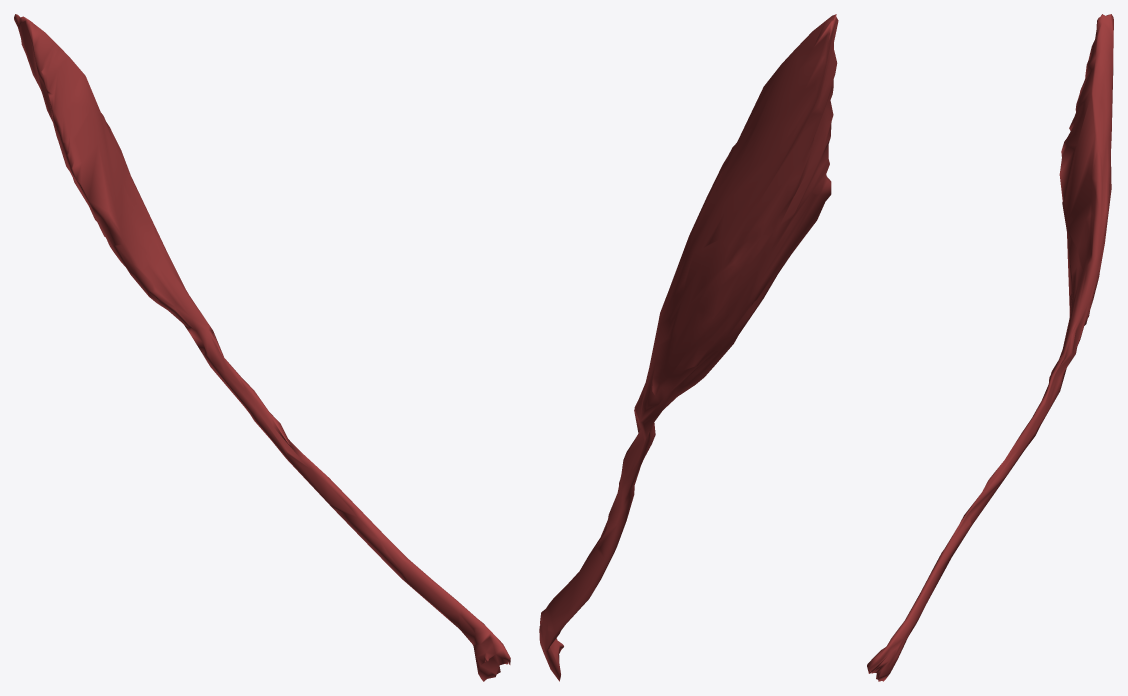
Rendered from extensor-pollicis-brevis-l.glb.
The picture shows the model from 3 angles, left to right: view 1: azimuth 30°, elevation 25°; view 2: azimuth 150°, elevation 25°; view 3: azimuth 270°, elevation 25°; orthographic projection. The views are drawn at different scales.
Visible parts, largest first — view 1: Extensor pollicis brevis.l; view 2: Extensor pollicis brevis.l; view 3: Extensor pollicis brevis.l.
Boxes of the visible parts, x1,y1,x2,y2 form: Extensor pollicis brevis.l: [14, 14, 510, 681]; Extensor pollicis brevis.l: [539, 14, 838, 681]; Extensor pollicis brevis.l: [867, 14, 1113, 681].
Bounding box in the file's own units: 0.079 × 0.1403 × 0.0586.
